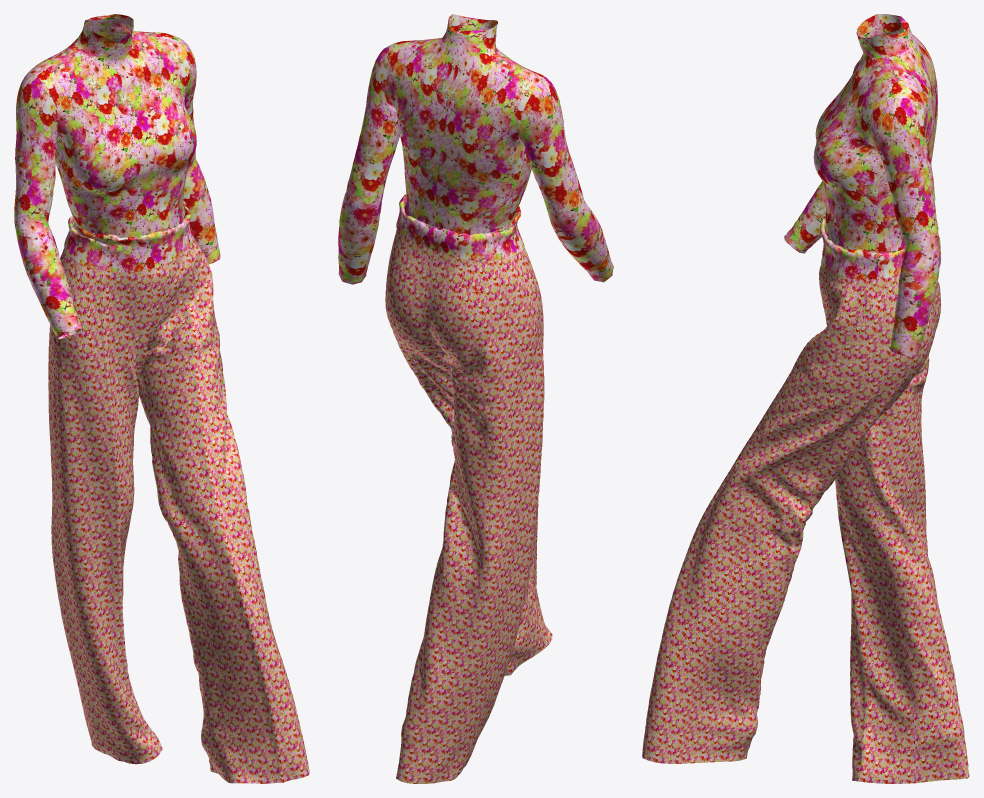
File: DA_HighNeck+WidePants_0000029.obj
The picture shows the model from 3 angles, left to right: view 1: azimuth 30°, elevation 25°; view 2: azimuth 150°, elevation 25°; view 3: azimuth 270°, elevation 25°; orthographic projection.
Size of the model in its own units: 0.5177 by 1.63 by 0.6485.
